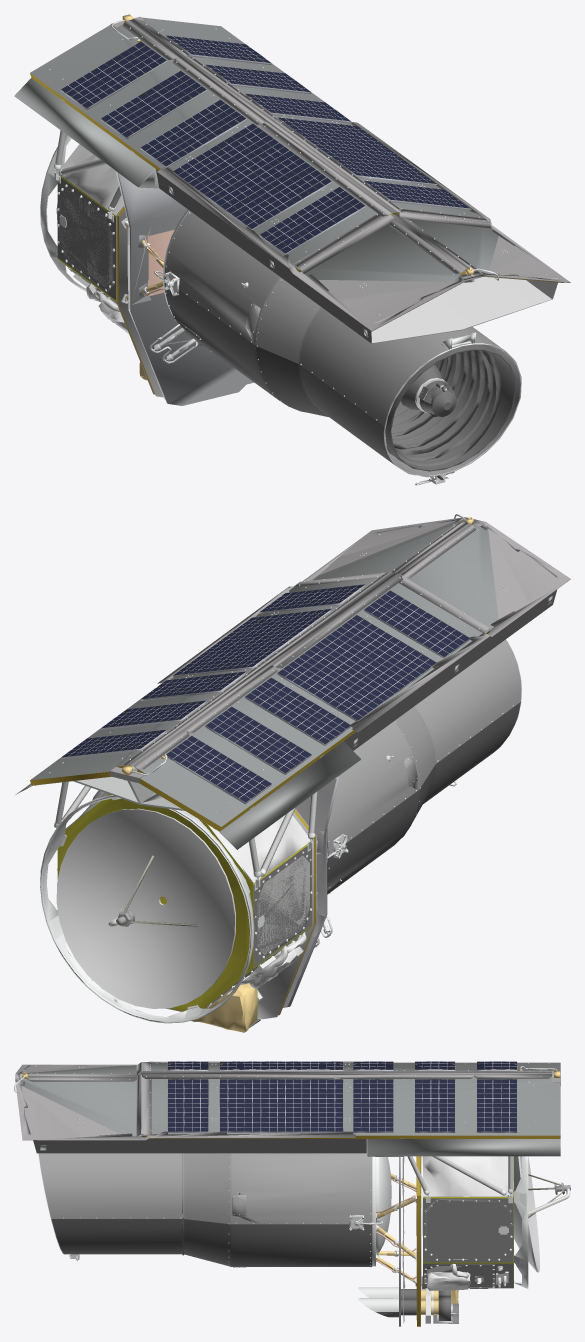
The model's file is spitzer_lod1.glb.
3 renders of one model, top to bottom at view 1: azimuth 30°, elevation 25°; view 2: azimuth 150°, elevation 25°; view 3: azimuth 270°, elevation 25°, orthographic. The views are drawn at different scales.
Parts seen in each view (by area): view 1: spitzer_lod1; view 2: spitzer_lod1; view 3: spitzer_lod1.
Boxes of the visible parts, <box> form: spitzer_lod1: <box>14,14,570,485</box>; spitzer_lod1: <box>15,514,570,1032</box>; spitzer_lod1: <box>14,1061,570,1326</box>.
Size of the model in its own units: 1.57 by 2.05 by 4.36.
